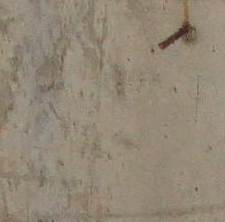Exposed reinforcement: (158, 25, 189, 51)
